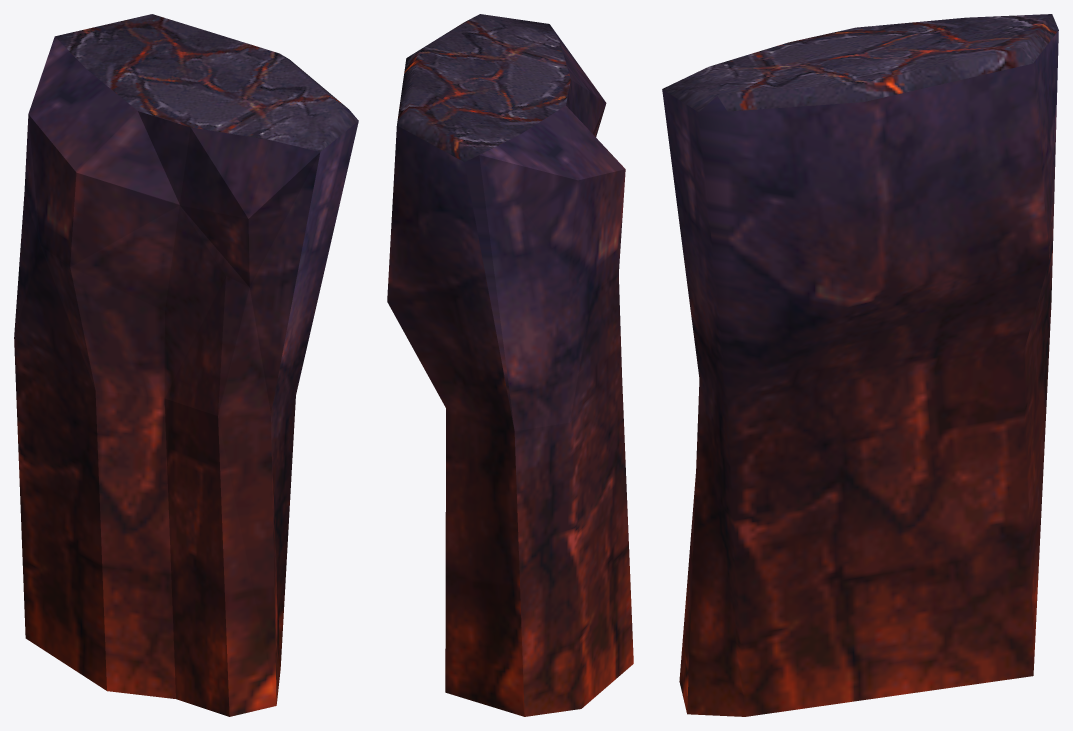
Rendered from 10509_stone02.FBX.
3 renders of one model, left to right at view 1: azimuth 30°, elevation 25°; view 2: azimuth 150°, elevation 25°; view 3: azimuth 270°, elevation 25°, orthographic. The views are drawn at different scales.
Visible parts, largest first — view 1: Object984; view 2: Object984; view 3: Object984.
Boxes of the visible parts, bbox=[...] form: Object984: bbox=[14, 14, 358, 716]; Object984: bbox=[387, 14, 633, 716]; Object984: bbox=[662, 14, 1058, 716].
Size of the model in its own units: 258 by 638 by 339.
